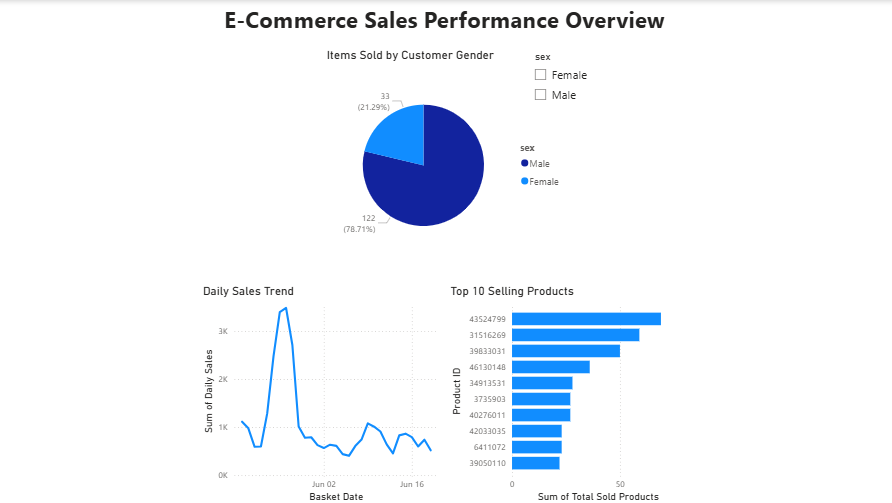

What the dashboard file says about the page in this screenshot:
{"tool":"powerbi","page":{"name":"Page 1","canvas":[1280,720],"ordinal":0},"visuals":[{"type":"pieChart","title":"Items Sold by Customer Gender","fields":{"Category":["Sales_By_Gender.sex"],"Y":["Sum(Sales_By_Gender.Total_Items_Sold)"]},"box":[464.5,67.6,350.6,316.8],"z":0},{"type":"clusteredBarChart","title":"Top 10 Selling Products","fields":{"Category":["Top_Products.product_id"],"Y":["Sum(Top_Products.Total_Sold)"]},"box":[640.7,404,350.6,316.8],"z":1000},{"type":"lineChart","title":"Daily Sales Trend","fields":{"Y":["Sum(Daily_Sales.Daily_Sales)"],"Category":["Daily_Sales.basket_date"]},"box":[288.3,404,352.4,316.8],"z":2000},{"type":"textbox","box":[318.6,0,642.5,57],"z":2001},{"type":"slicer","fields":{"Values":["Sales_By_Gender.sex"]},"box":[752.8,67.6,124.6,92.5],"z":2002}]}

Visuals, with their boxes in screenshot pixels (x1, y1, x2, y2), scaled from the page's 1280x720 canvas onto the 892x503 screenshot:
"Items Sold by Customer Gender" pieChart: bbox=(324, 47, 568, 269)
"Top 10 Selling Products" clusteredBarChart: bbox=(446, 282, 691, 502)
"Daily Sales Trend" lineChart: bbox=(201, 282, 446, 502)
textbox: bbox=(222, 0, 670, 40)
slicer - Sales_By_Gender.sex: bbox=(525, 47, 611, 112)
